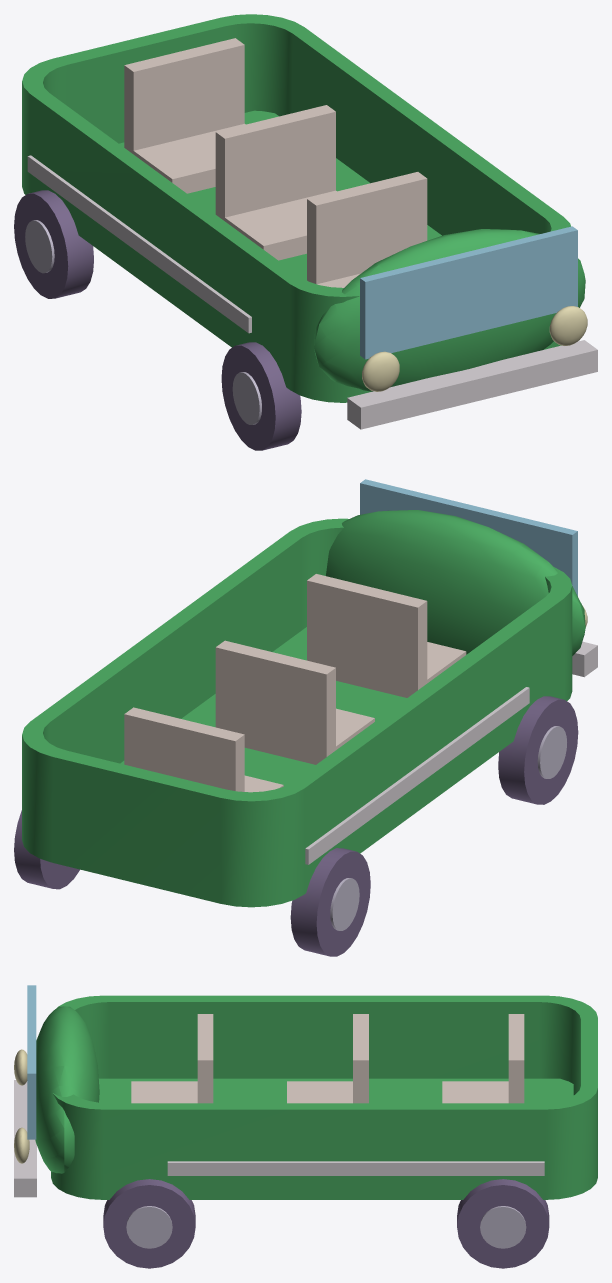
The model's file is Bus_Green.glb.
The picture shows the model from 3 angles, top to bottom: view 1: azimuth 30°, elevation 25°; view 2: azimuth 150°, elevation 25°; view 3: azimuth 270°, elevation 25°; orthographic projection. The views are drawn at different scales.
Parts seen in each view (by area): view 1: Body, Wheel_1, Wheel_3; view 2: Body, Wheel_3, Wheel_1, Wheel_4; view 3: Body, Wheel_2, Wheel_4.
Boxes of the visible parts, box(x1,y1,x2,y2) form: Body: box(22, 14, 597, 429); Wheel_1: box(221, 342, 301, 450); Wheel_3: box(14, 190, 93, 298); Body: box(22, 479, 597, 907); Wheel_3: box(290, 848, 370, 956); Wheel_1: box(498, 696, 578, 804); Wheel_4: box(14, 810, 79, 889); Body: box(14, 985, 597, 1199); Wheel_2: box(103, 1179, 195, 1268); Wheel_4: box(457, 1179, 549, 1268).
Bounding box in the file's own units: 2.49 × 1.63 × 4.81.
